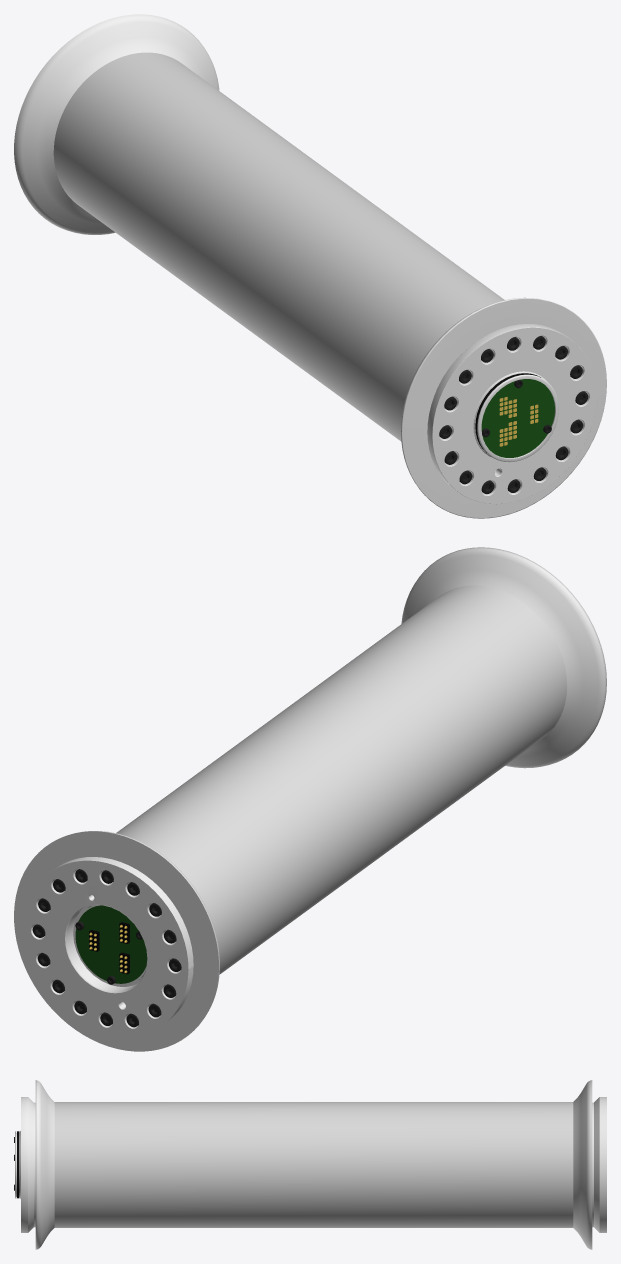
The picture shows the model from 3 angles, top to bottom: view 1: azimuth 30°, elevation 25°; view 2: azimuth 150°, elevation 25°; view 3: azimuth 270°, elevation 25°; orthographic projection. The views are drawn at different scales.
Parts seen in each view (by area): view 1: I116.001; view 2: I116.001; view 3: I116.001.
Boxes of the visible parts, x1,y1,x2,y2 form: I116.001: (14, 14, 606, 518); I116.001: (14, 547, 606, 1051); I116.001: (14, 1080, 606, 1249).
Bounding box in the file's own units: 0.116 × 0.116 × 0.4047.
